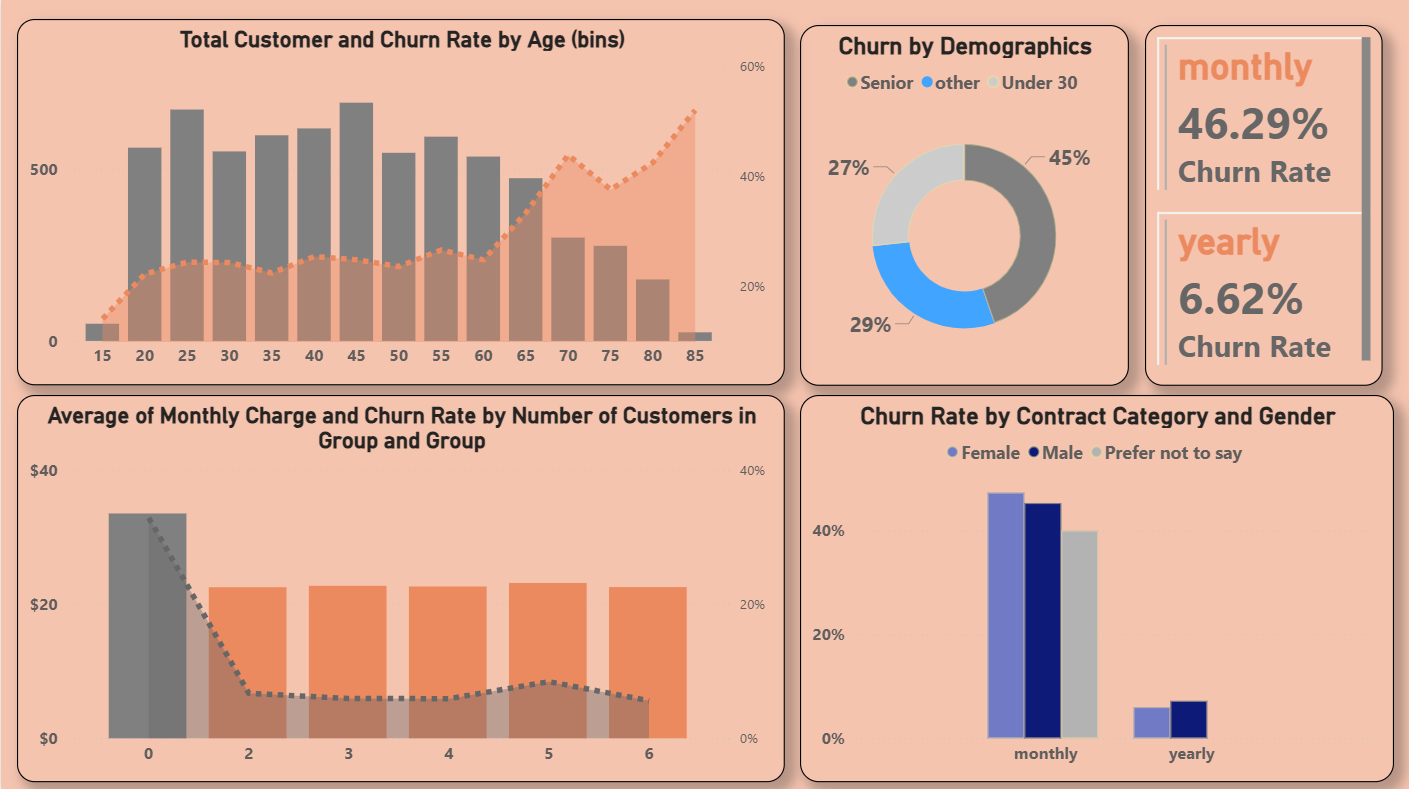

What the dashboard file says about the page in this screenshot:
{"tool":"powerbi","page":{"name":"Groups and Category","canvas":[1280,720],"ordinal":1},"visuals":[{"type":"donutChart","title":"Churn by Demographics","fields":{"Category":["Databel - Data.Demographics"],"Y":["Databel - Data.Churn Rate"]},"box":[726.6,23.3,298.6,327.8],"z":0},{"type":"lineStackedColumnComboChart","fields":{"Y2":["Databel - Data.Churn Rate"],"Y":["Databel - Data.Total Customer"],"Category":["Databel - Data.Age (bins)"]},"box":[14.6,18.5,698.4,332.6],"z":1000},{"type":"multiRowCard","fields":{"Values":["Databel - Data.Contract Category","Databel - Data.Churn Rate"]},"box":[1039.8,23.3,215.9,327.8],"z":2000},{"type":"lineStackedColumnComboChart","fields":{"Category":["Databel - Data.Number of Customers in Group"],"Y":["Avg(Databel - Data.Monthly Charge)"],"Y2":["Databel - Data.Churn Rate"],"Series":["Databel - Data.Group"]},"box":[14.6,359.9,698.4,352.1],"z":3000},{"type":"clusteredColumnChart","fields":{"Category":["Databel - Data.Contract Category"],"Y":["Databel - Data.Churn Rate"],"Series":["Databel - Data.Gender"]},"box":[726.6,359.9,539.8,352.1],"z":4000}]}

Visuals, with their boxes in screenshot pixels (x1, y1, x2, y2), scaled from the page's 1280x720 canvas onto the 1409x789 screenshot:
"Churn by Demographics" donutChart: 800/26/1129/385
lineStackedColumnComboChart - Databel - Data.Churn Rate x Databel - Data.Total Customer: 16/20/785/385
multiRowCard - Databel - Data.Contract Category x Databel - Data.Churn Rate: 1145/26/1382/385
lineStackedColumnComboChart - Databel - Data.Number of Customers in Group x Avg(Databel - Data.Monthly Charge): 16/394/785/780
clusteredColumnChart - Databel - Data.Contract Category x Databel - Data.Churn Rate: 800/394/1394/780
